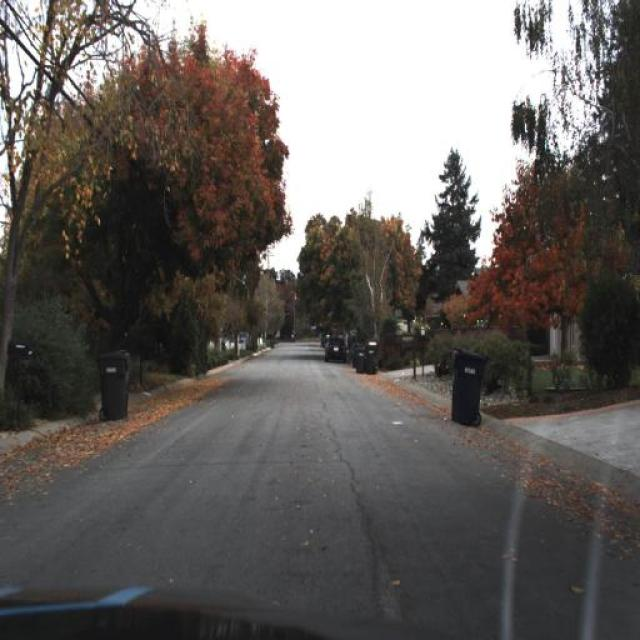car: (323, 332, 348, 372), (326, 338, 349, 362)
